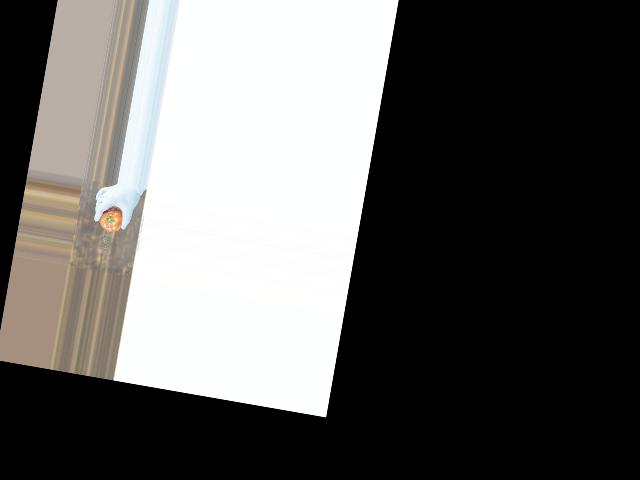tomato: (98, 205, 124, 234)
